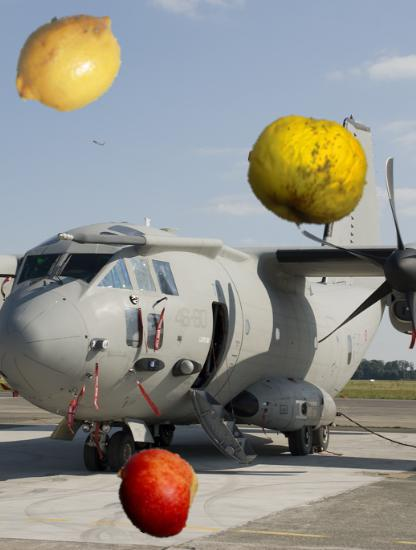Apple: (246, 112, 369, 235)
Lemon: (8, 3, 128, 123)
Nectarine: (112, 448, 199, 535)
